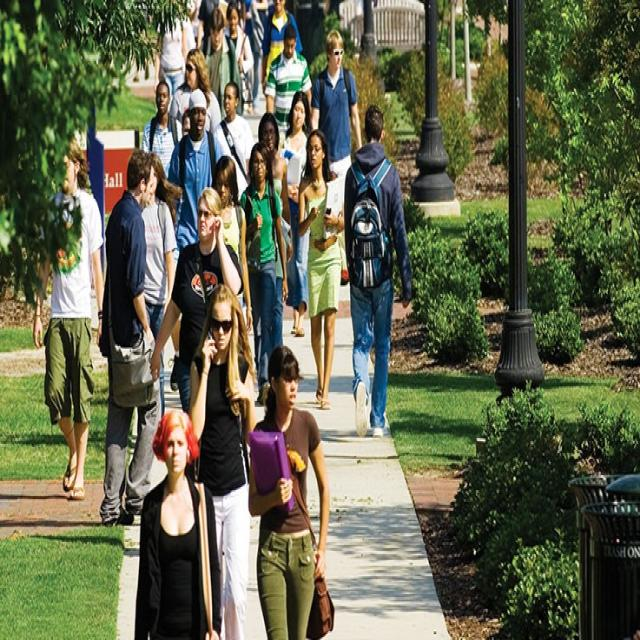body: (28, 129, 108, 505), (245, 340, 338, 639), (185, 276, 260, 639), (96, 146, 163, 530), (342, 101, 414, 441), (148, 185, 245, 418), (130, 402, 225, 638), (127, 0, 277, 111), (296, 126, 348, 414), (239, 141, 289, 408), (140, 150, 180, 414), (164, 88, 225, 252), (307, 27, 364, 202), (279, 88, 315, 340), (257, 110, 294, 353), (206, 153, 254, 334), (263, 20, 314, 140), (212, 80, 257, 204), (198, 4, 244, 122), (168, 46, 222, 141), (261, 0, 305, 98), (142, 80, 183, 180), (223, 0, 256, 116), (153, 12, 190, 99), (161, 106, 190, 181)
